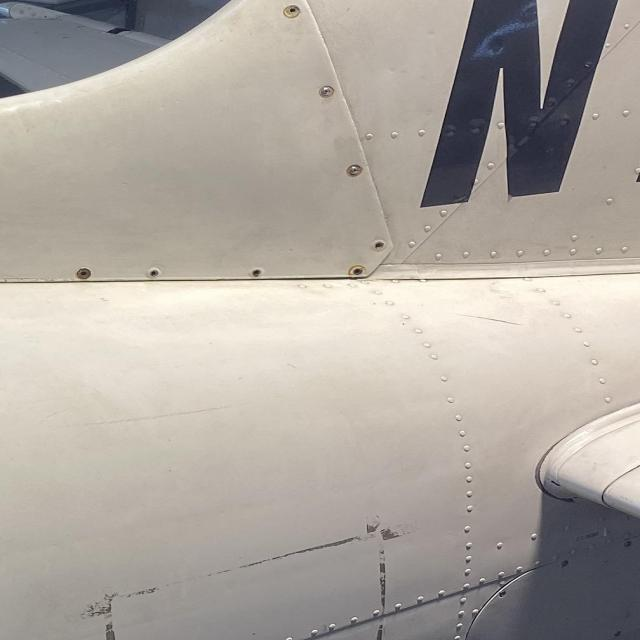Missing-head: (76, 267, 93, 281), (350, 265, 368, 277), (252, 267, 265, 279), (372, 240, 386, 251), (147, 268, 161, 278)
